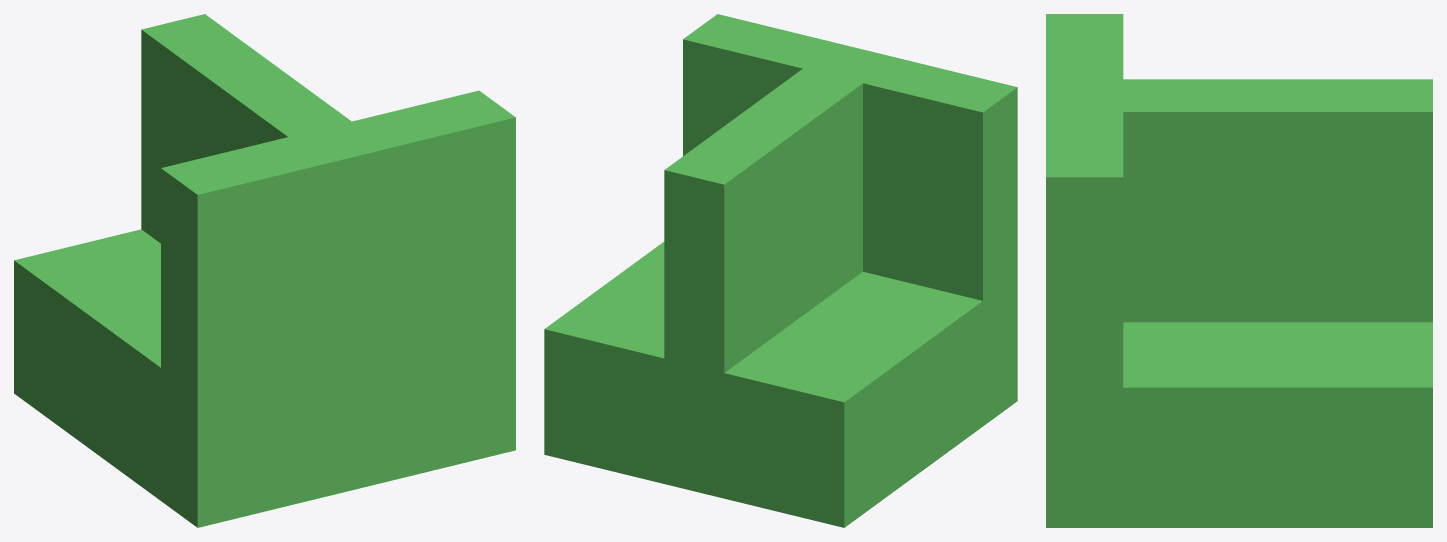
3 renders of one model, left to right at view 1: azimuth 30°, elevation 25°; view 2: azimuth 150°, elevation 25°; view 3: azimuth 270°, elevation 25°, orthographic. The views are drawn at different scales.
Size of the model in its own units: 0.005 by 0.005 by 0.005.
